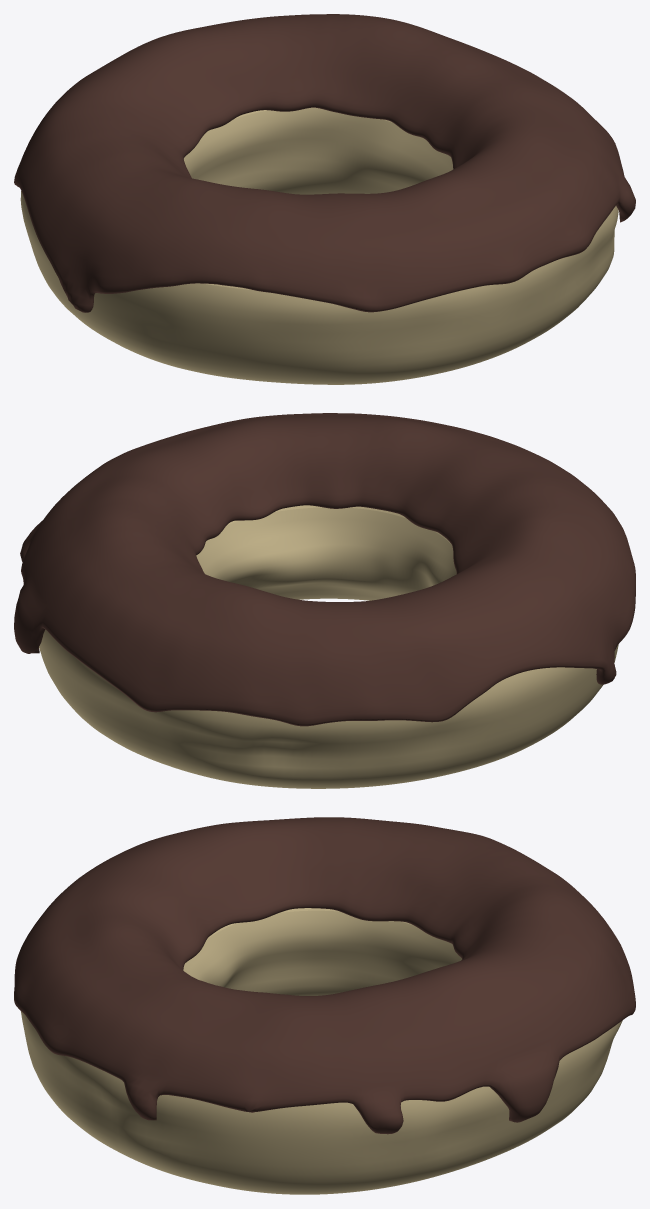
The model's file is donat-part-1.glb.
The picture shows the model from 3 angles, top to bottom: view 1: azimuth 30°, elevation 25°; view 2: azimuth 150°, elevation 25°; view 3: azimuth 270°, elevation 25°; orthographic projection. The views are drawn at different scales.
Parts seen in each view (by area): view 1: lapisan toping, donat; view 2: lapisan toping, donat; view 3: lapisan toping, donat.
Boxes of the visible parts, x1,y1,x2,y2 form: lapisan toping: (14, 14, 635, 312); donat: (20, 107, 618, 384); lapisan toping: (14, 413, 635, 726); donat: (39, 505, 618, 788); lapisan toping: (14, 817, 635, 1134); donat: (21, 908, 622, 1194).
Size of the model in its own units: 10.3 by 3.46 by 10.34.
